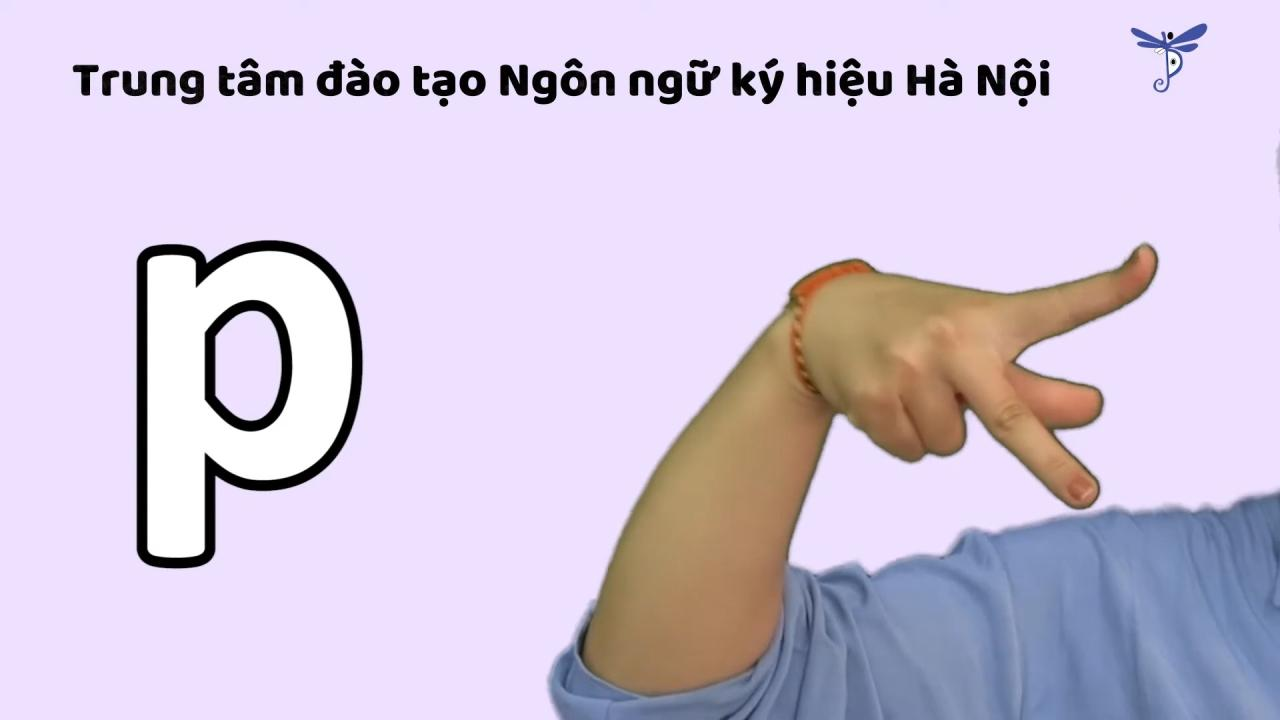P: (774, 207, 1161, 530)
